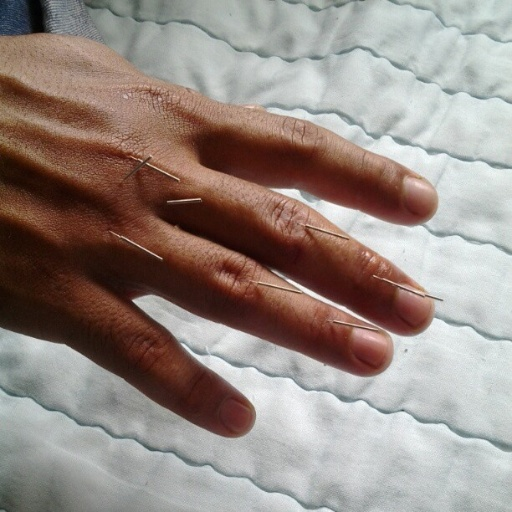hand: (0, 34, 434, 436)
